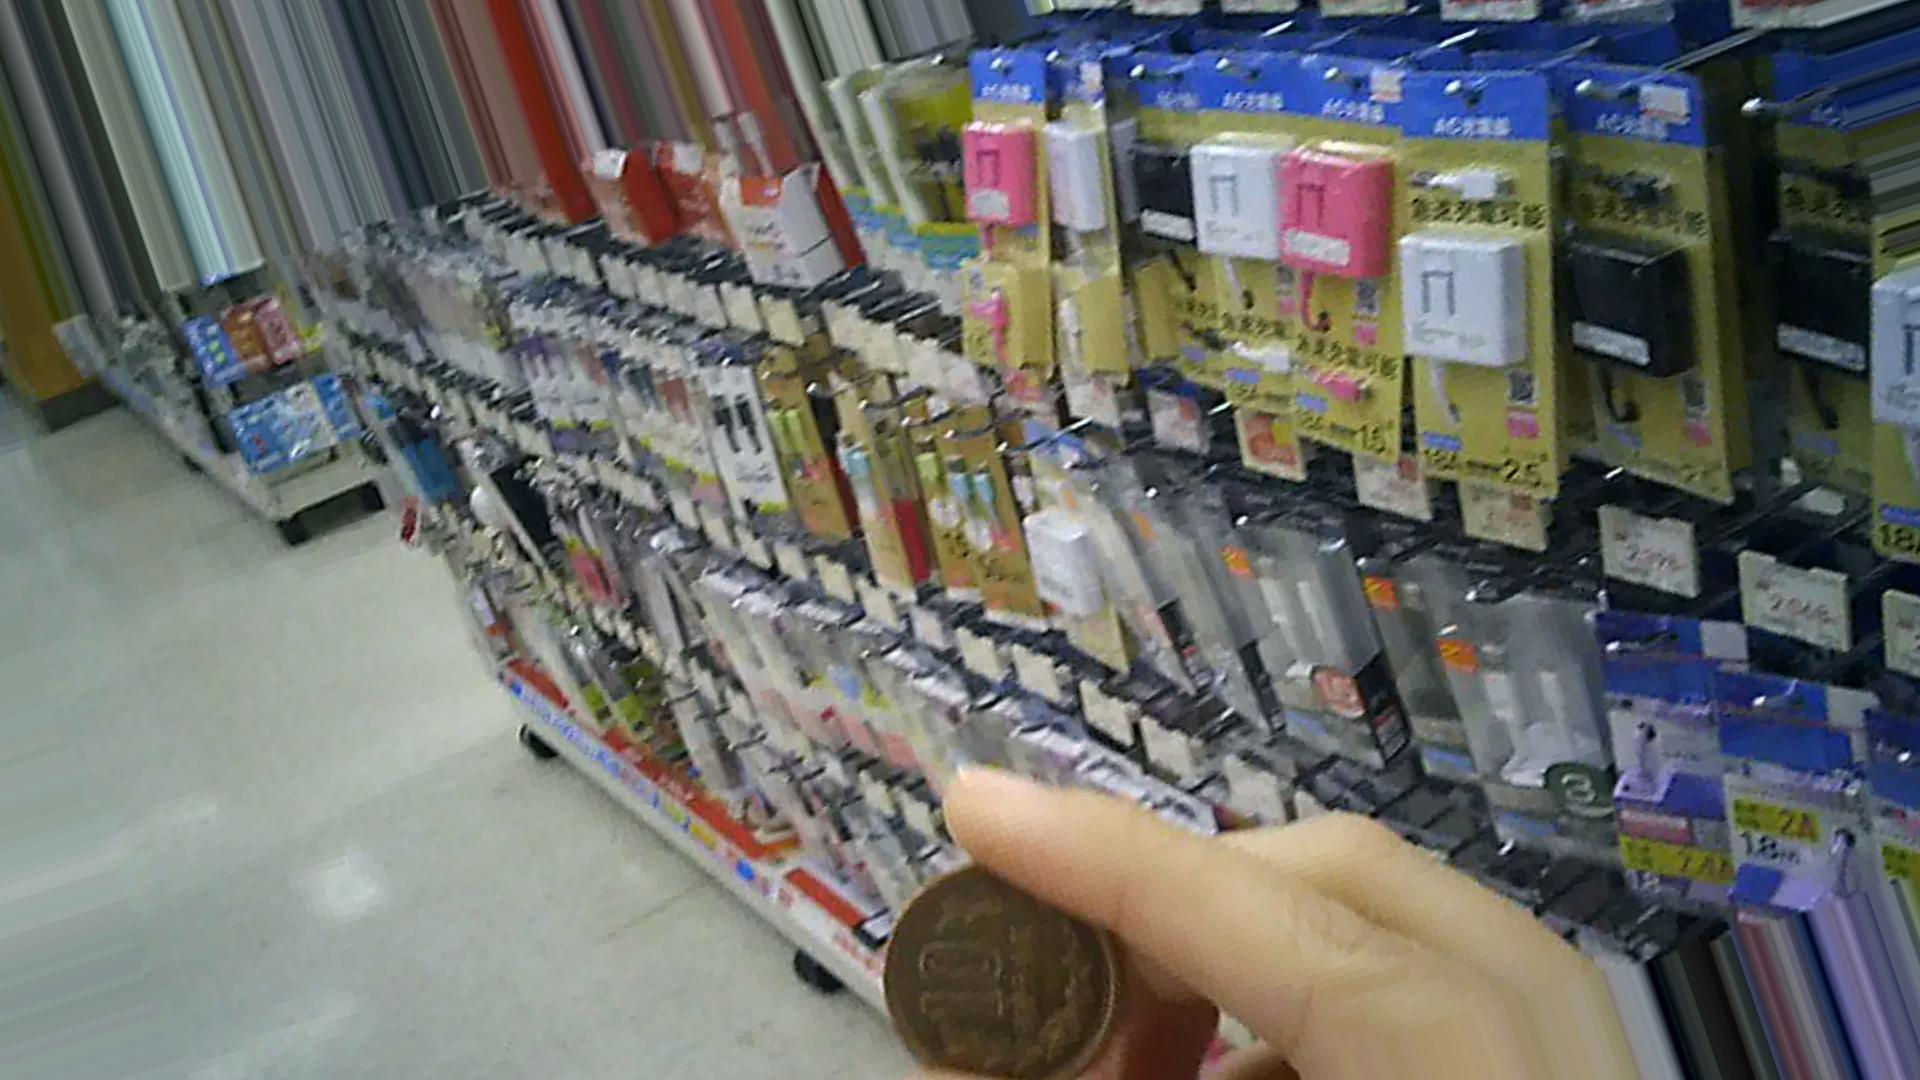10 Yen: (866, 855, 1120, 1079)
